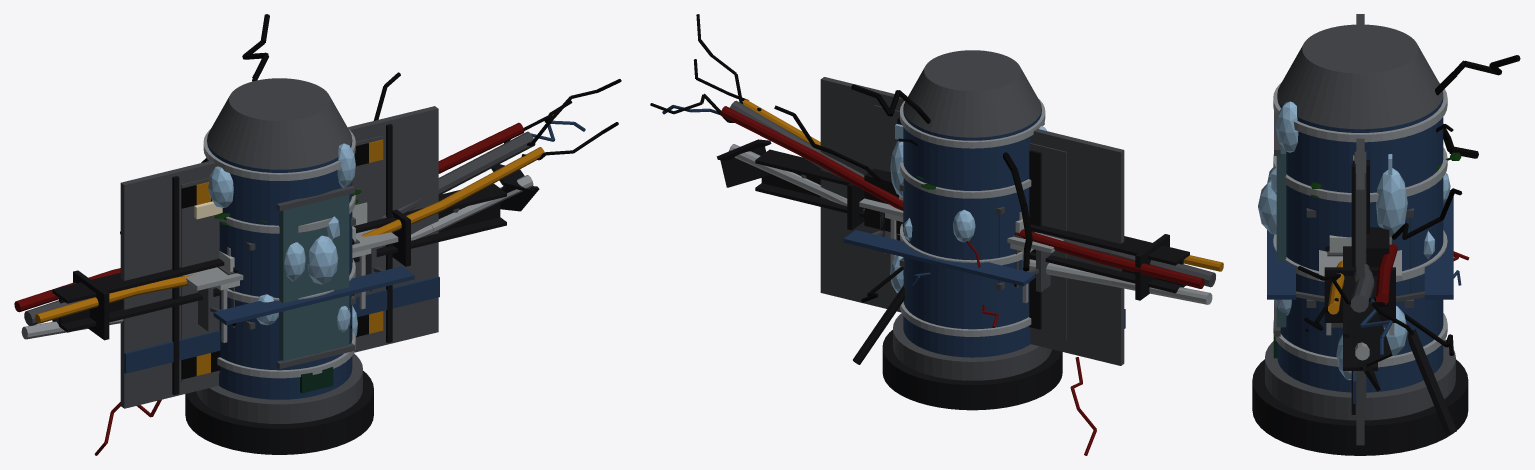
The model's file is restos_interior.glb.
3 renders of one model, left to right at view 1: azimuth 30°, elevation 25°; view 2: azimuth 150°, elevation 25°; view 3: azimuth 270°, elevation 25°, orthographic. The views are drawn at different scales.
Visible parts, largest first — view 1: r_capsula, r_panel, r_tubos, r_compuerta, r_viga, r_mesa, r_mesa_lab; view 2: r_capsula, r_panel, r_tubos, r_compuerta, r_viga, r_mesa; view 3: r_capsula, r_tubos, r_panel, r_mesa, r_viga, r_compuerta, r_camilla, r_consola, r_caja.
Part boxes in pixels (<box>): r_capsula: <box>120,14,373,454</box>; r_panel: <box>94,72,439,455</box>; r_tubos: <box>14,79,621,340</box>; r_compuerta: <box>181,135,383,382</box>; r_viga: <box>52,164,539,332</box>; r_mesa: <box>181,228,414,331</box>; r_mesa_lab: <box>215,248,371,342</box>; r_capsula: <box>851,50,1062,410</box>; r_panel: <box>774,77,1125,455</box>; r_tubos: <box>650,14,1223,304</box>; r_compuerta: <box>874,105,1066,340</box>; r_viga: <box>716,139,1189,293</box>; r_mesa: <box>843,198,1063,292</box>; r_capsula: <box>1252,24,1520,455</box>; r_tubos: <box>1298,243,1413,360</box>; r_panel: <box>1351,14,1462,445</box>; r_mesa: <box>1267,190,1453,327</box>; r_viga: <box>1343,246,1392,391</box>; r_compuerta: <box>1353,151,1369,398</box>; r_camilla: <box>1327,154,1392,256</box>; r_consola: <box>1325,246,1469,355</box>; r_caja: <box>1306,208,1413,307</box>.
Size of the model in its own units: 9.03 by 5.55 by 3.23.
